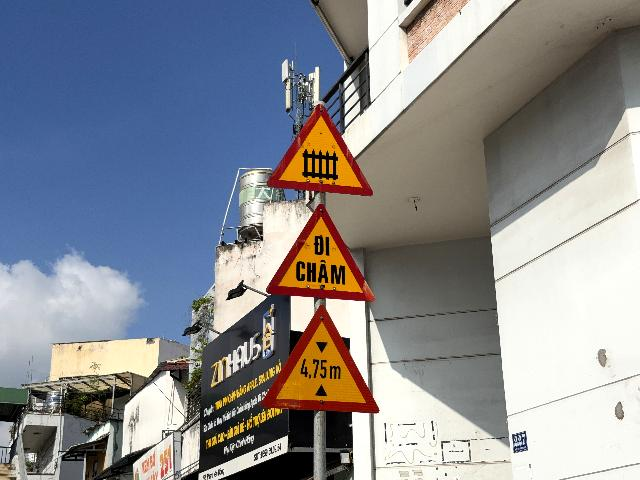chieu-cao-tinh-khong-thuc-te: (261, 305, 380, 414)
di-cham: (266, 202, 375, 302)
noi-giao-nhau-voi-duong-sat-co-rao-chan: (267, 103, 374, 196)
